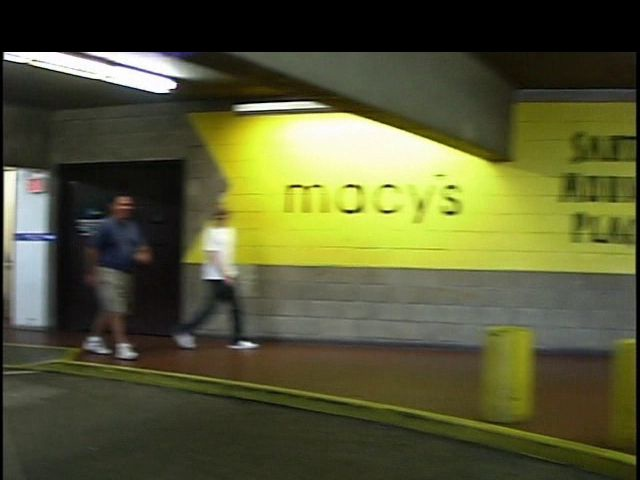person: (165, 193, 253, 364), (65, 184, 145, 364)
